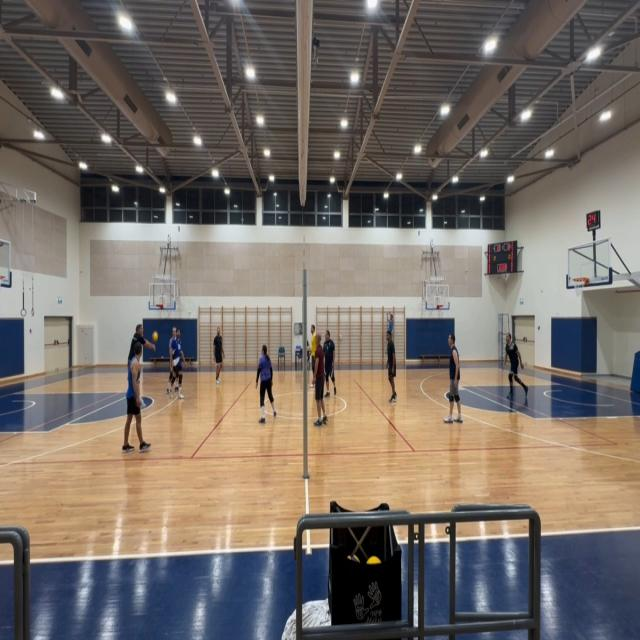volleyball: (152, 332, 158, 342)
